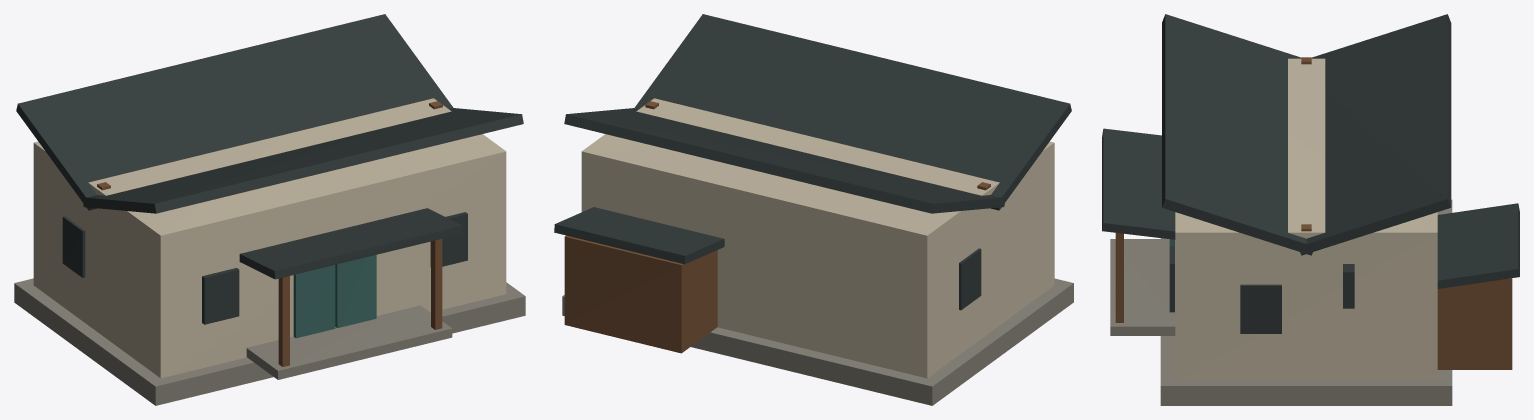
The model's file is Dining-Hall.glb.
3 renders of one model, left to right at view 1: azimuth 30°, elevation 25°; view 2: azimuth 150°, elevation 25°; view 3: azimuth 270°, elevation 25°, orthographic. The views are drawn at different scales.
Visible parts, largest first — view 1: dining-hall-static-dining-hall-cream-boards, dining-hall-static-dining-hall-charcoal-roof-and-glass, dining-hall-static-dining-hall-pale-stone, dining-hall-static-dining-hall-muted-teal-doors, dining-hall-static-dining-hall-warm-timber; view 2: dining-hall-static-dining-hall-cream-boards, dining-hall-static-dining-hall-charcoal-roof-and-glass, dining-hall-static-dining-hall-warm-timber, dining-hall-static-dining-hall-pale-stone; view 3: dining-hall-static-dining-hall-charcoal-roof-and-glass, dining-hall-static-dining-hall-cream-boards, dining-hall-static-dining-hall-pale-stone, dining-hall-static-dining-hall-warm-timber.
Part boxes in pixels (x1=…): dining-hall-static-dining-hall-cream-boards: x1=33, y1=98, x2=506, y2=378; dining-hall-static-dining-hall-charcoal-roof-and-glass: x1=16, y1=14, x2=523, y2=324; dining-hall-static-dining-hall-pale-stone: x1=14, y1=278, x2=525, y2=405; dining-hall-static-dining-hall-muted-teal-doors: x1=293, y1=255, x2=376, y2=338; dining-hall-static-dining-hall-warm-timber: x1=97, y1=101, x2=442, y2=366; dining-hall-static-dining-hall-cream-boards: x1=581, y1=98, x2=1054, y2=378; dining-hall-static-dining-hall-charcoal-roof-and-glass: x1=554, y1=14, x2=1071, y2=310; dining-hall-static-dining-hall-warm-timber: x1=564, y1=101, x2=990, y2=353; dining-hall-static-dining-hall-pale-stone: x1=562, y1=278, x2=1073, y2=405; dining-hall-static-dining-hall-charcoal-roof-and-glass: x1=1102, y1=14, x2=1519, y2=333; dining-hall-static-dining-hall-cream-boards: x1=1175, y1=58, x2=1437, y2=379; dining-hall-static-dining-hall-pale-stone: x1=1110, y1=199, x2=1452, y2=405; dining-hall-static-dining-hall-warm-timber: x1=1115, y1=57, x2=1512, y2=369.
Bounding box in the file's own units: 6.88 × 3.51 × 6.44.
